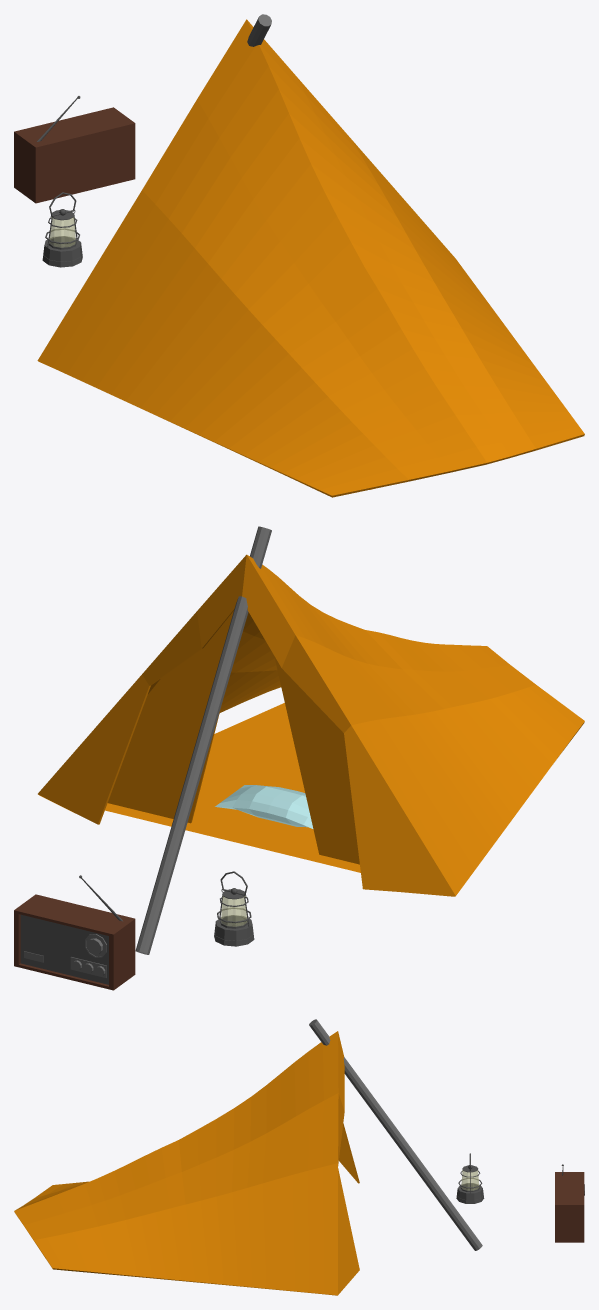
File: tent.fbx
The picture shows the model from 3 angles, top to bottom: view 1: azimuth 30°, elevation 25°; view 2: azimuth 150°, elevation 25°; view 3: azimuth 270°, elevation 25°; orthographic projection. The views are drawn at different scales.
Visible parts, largest first — view 1: Plane.001, Cube.001, Sphere; view 2: Plane.001, Cube.001, Sphere; view 3: Plane.001, Cube.001, Sphere.
Boxes of the visible parts, x1,y1,x2,y2 form: Plane.001: [37, 14, 584, 497]; Cube.001: [14, 96, 135, 203]; Sphere: [42, 192, 82, 267]; Plane.001: [38, 526, 584, 954]; Cube.001: [14, 875, 135, 990]; Sphere: [214, 871, 254, 946]; Plane.001: [14, 1019, 482, 1295]; Cube.001: [555, 1164, 584, 1242]; Sphere: [456, 1153, 484, 1203].
Size of the model in its own units: 200 by 156 by 351.
